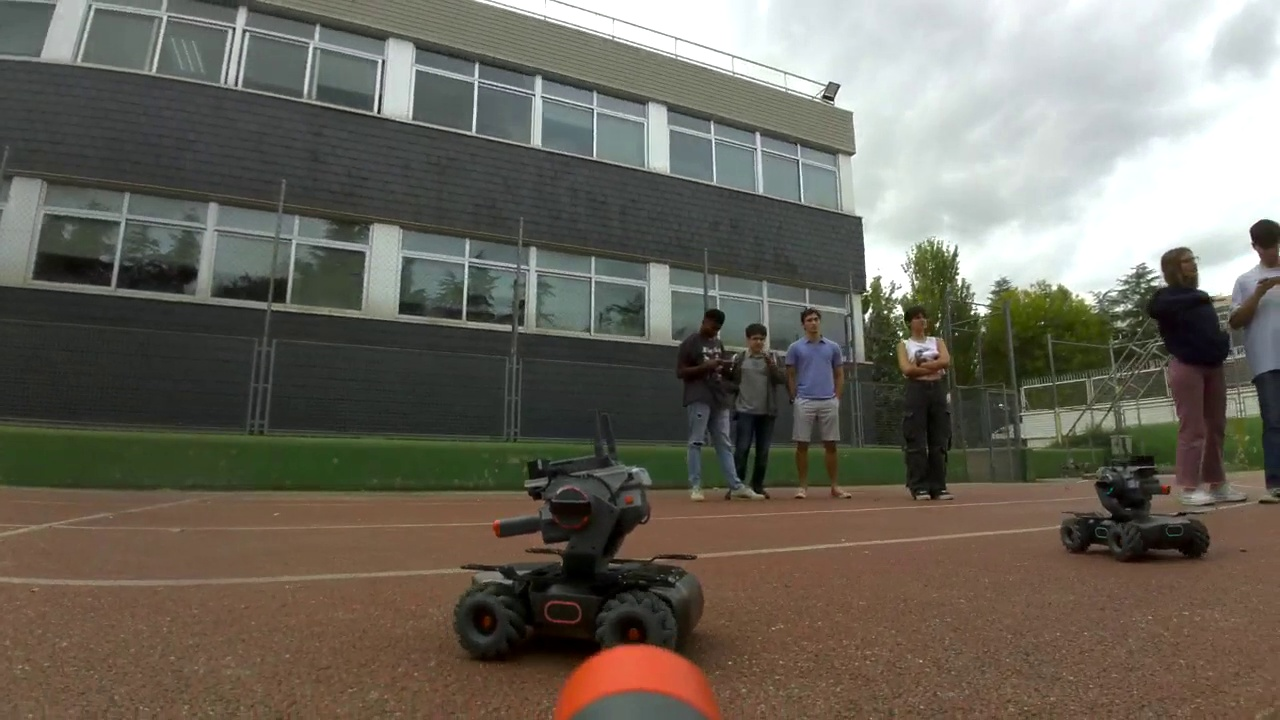robot: (454, 455, 706, 652), (1062, 457, 1211, 564)
